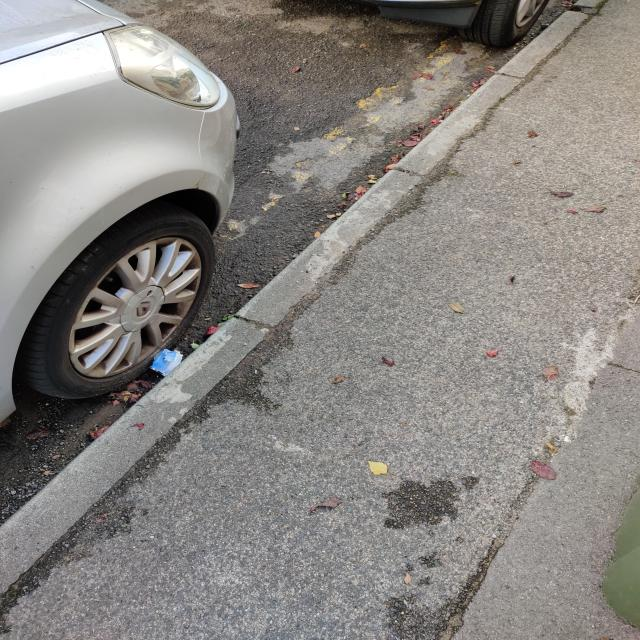litter: (149, 348, 182, 374)
